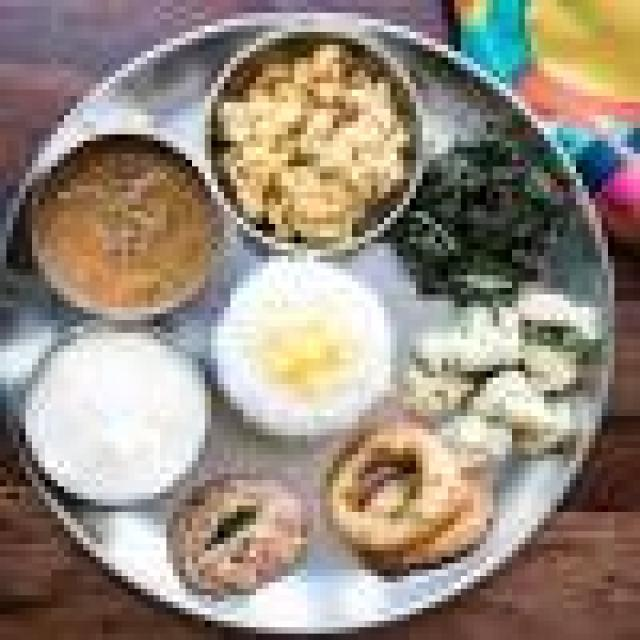curd: (19, 322, 213, 513)
dal: (20, 145, 215, 313), (211, 259, 399, 426)
roti: (209, 48, 422, 244)
sweet: (314, 425, 504, 572)
veg-fry: (167, 477, 318, 607)
